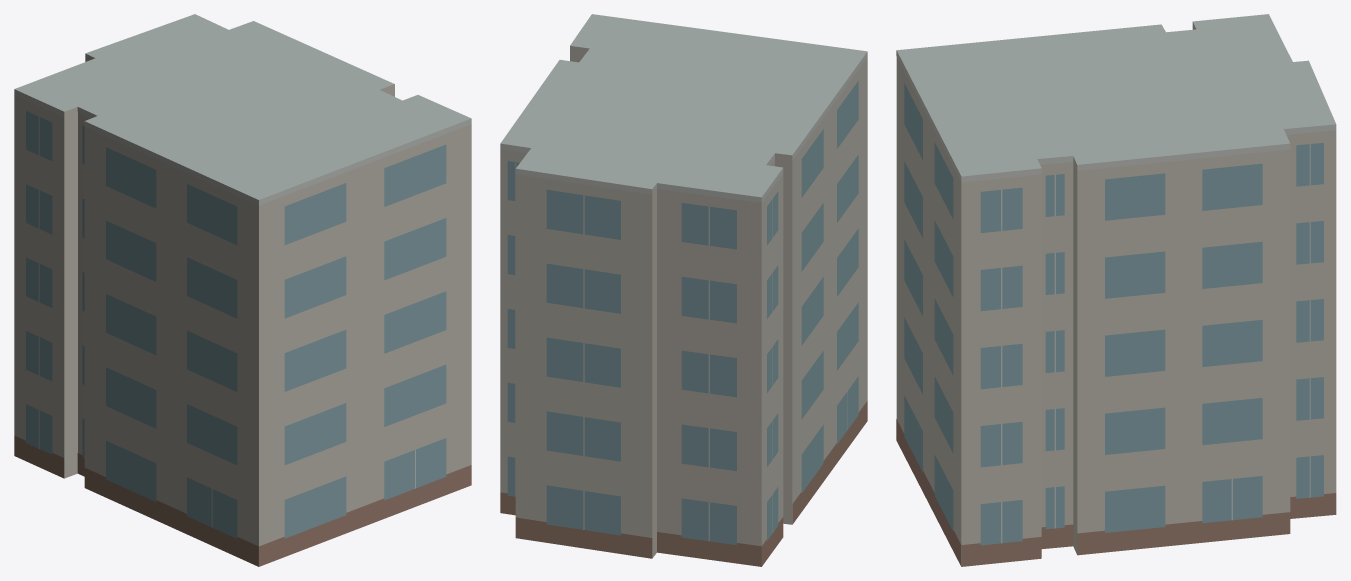
File: survey-upis-32993132.glb
The picture shows the model from 3 angles, left to right: view 1: azimuth 30°, elevation 25°; view 2: azimuth 150°, elevation 25°; view 3: azimuth 270°, elevation 25°; orthographic projection. The views are drawn at different scales.
Parts seen in each view (by area): view 1: survey-upis-32993132.tmp; view 2: survey-upis-32993132.tmp; view 3: survey-upis-32993132.tmp.
Part boxes in pixels (x1,y1,x2,y2): survey-upis-32993132.tmp: (14,14,471,566); survey-upis-32993132.tmp: (500,14,867,566); survey-upis-32993132.tmp: (896,14,1336,566).
Bounding box in the file's own units: 14.34 × 16.05 × 16.4.
